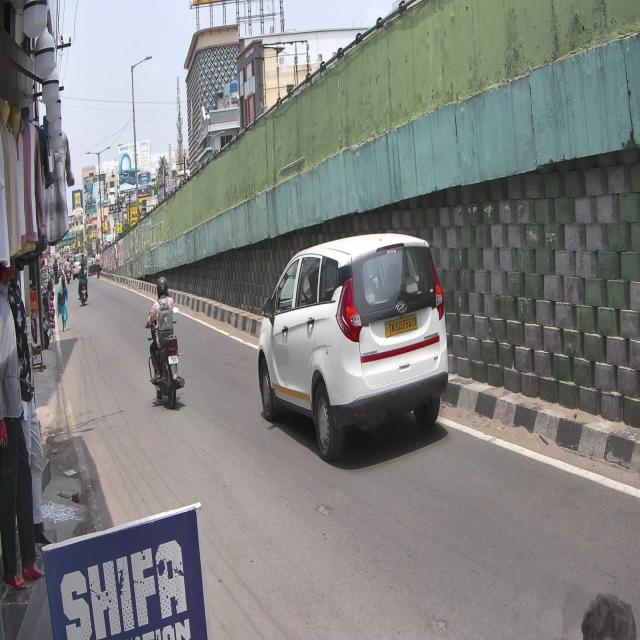single_rider: (145, 277, 186, 410)
